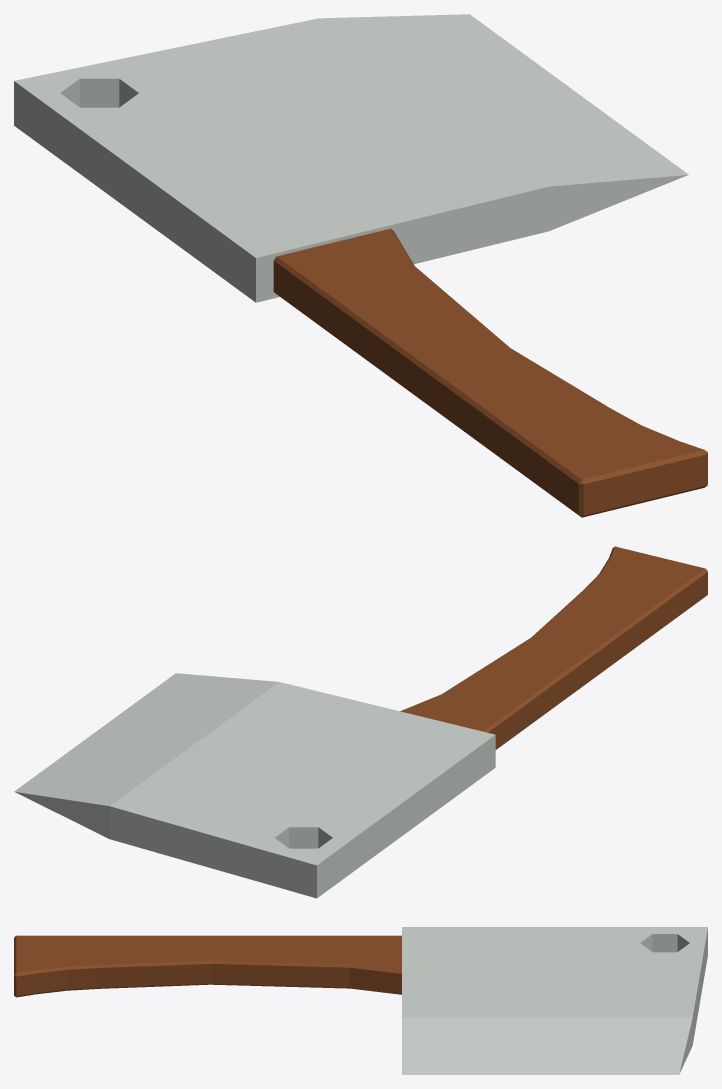
File: Knife_1.fbx
3 renders of one model, top to bottom at view 1: azimuth 30°, elevation 25°; view 2: azimuth 150°, elevation 25°; view 3: azimuth 270°, elevation 25°, orthographic. The views are drawn at different scales.
Parts seen in each view (by area): view 1: Knife_1; view 2: Knife_1; view 3: Knife_1.
Part boxes in pixels (x1,y1,x2,y2): Knife_1: [14, 14, 707, 517]; Knife_1: [14, 546, 707, 898]; Knife_1: [14, 927, 707, 1074].
Size of the model in its own units: 17.43 by 1.72 by 38.28.
